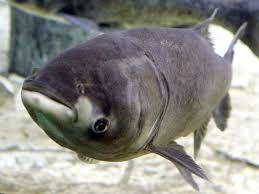Big Head Carp: (22, 7, 246, 188)
